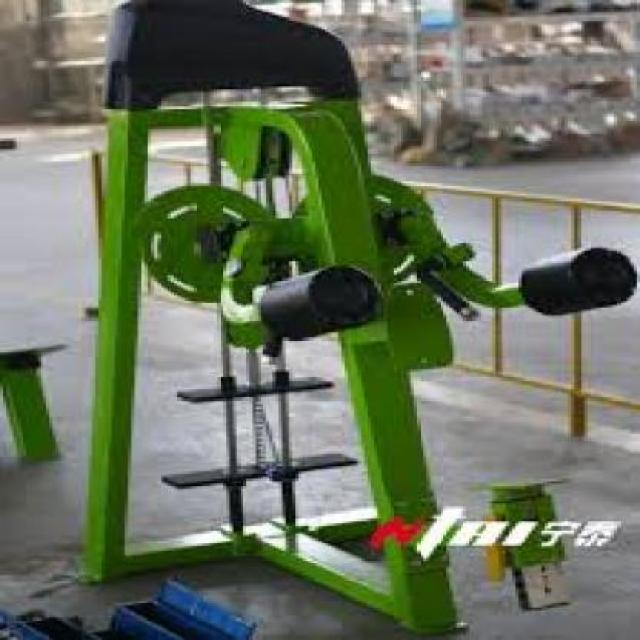lateral raises machine: (75, 0, 640, 503)
